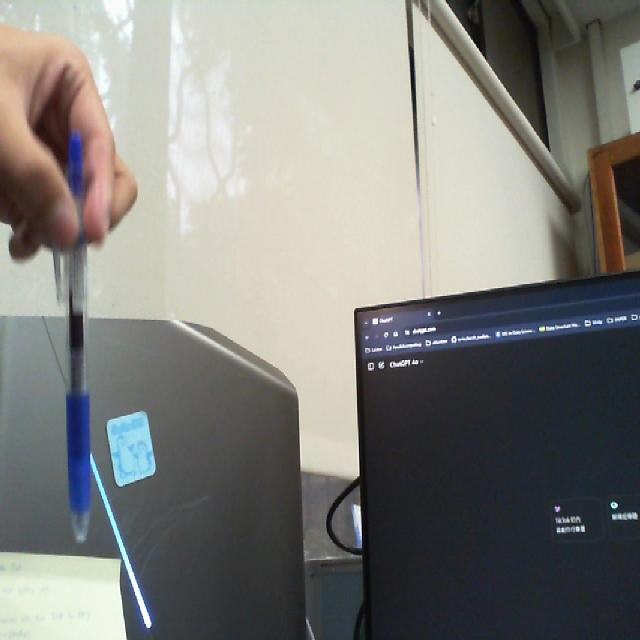Pen: (42, 113, 118, 554)
